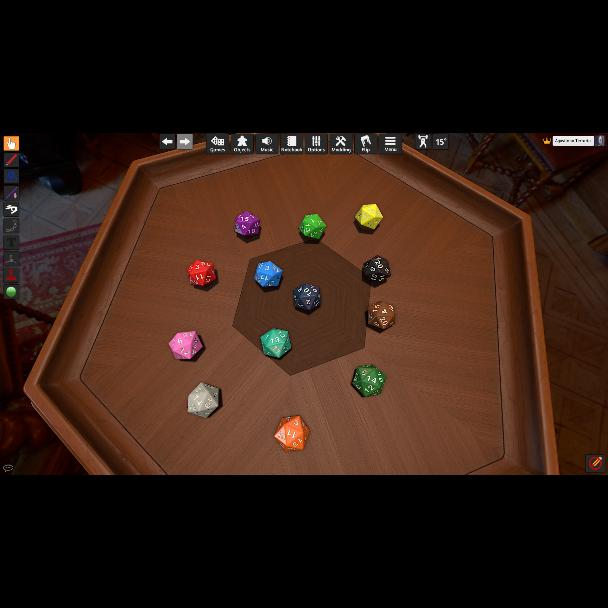d20: (274, 415, 310, 451), (188, 382, 220, 418), (168, 330, 203, 360), (352, 364, 384, 396), (260, 328, 292, 358), (366, 300, 394, 330), (292, 284, 319, 314), (362, 256, 390, 284), (188, 260, 216, 288), (253, 262, 282, 288), (298, 214, 326, 240), (234, 212, 260, 239), (356, 204, 382, 230)
